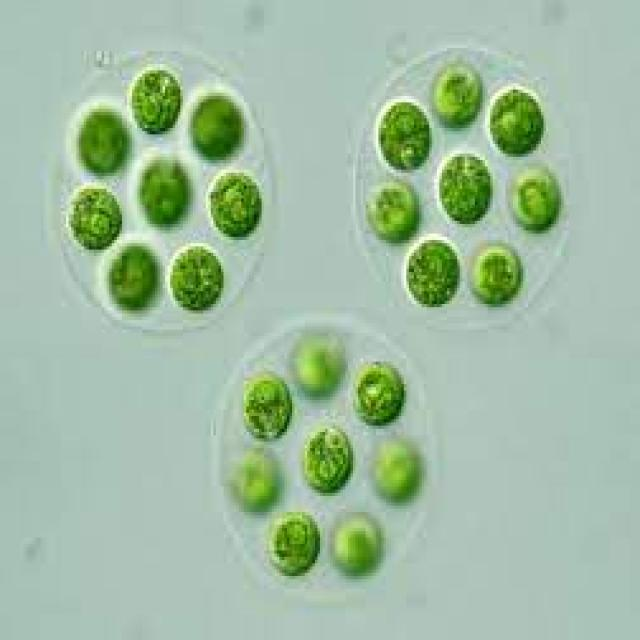Green Algae: (485, 80, 546, 163), (374, 96, 434, 176), (434, 150, 493, 228), (401, 234, 462, 307), (506, 163, 566, 234), (68, 179, 124, 250), (353, 358, 409, 426), (137, 154, 191, 224), (170, 240, 224, 310), (368, 176, 422, 246), (188, 93, 244, 160), (330, 512, 384, 579), (76, 106, 130, 172), (269, 509, 320, 576), (132, 67, 180, 138), (244, 371, 292, 442), (470, 243, 523, 307), (302, 426, 353, 492), (208, 172, 262, 234), (373, 438, 424, 502), (434, 64, 483, 128), (109, 247, 158, 310)
